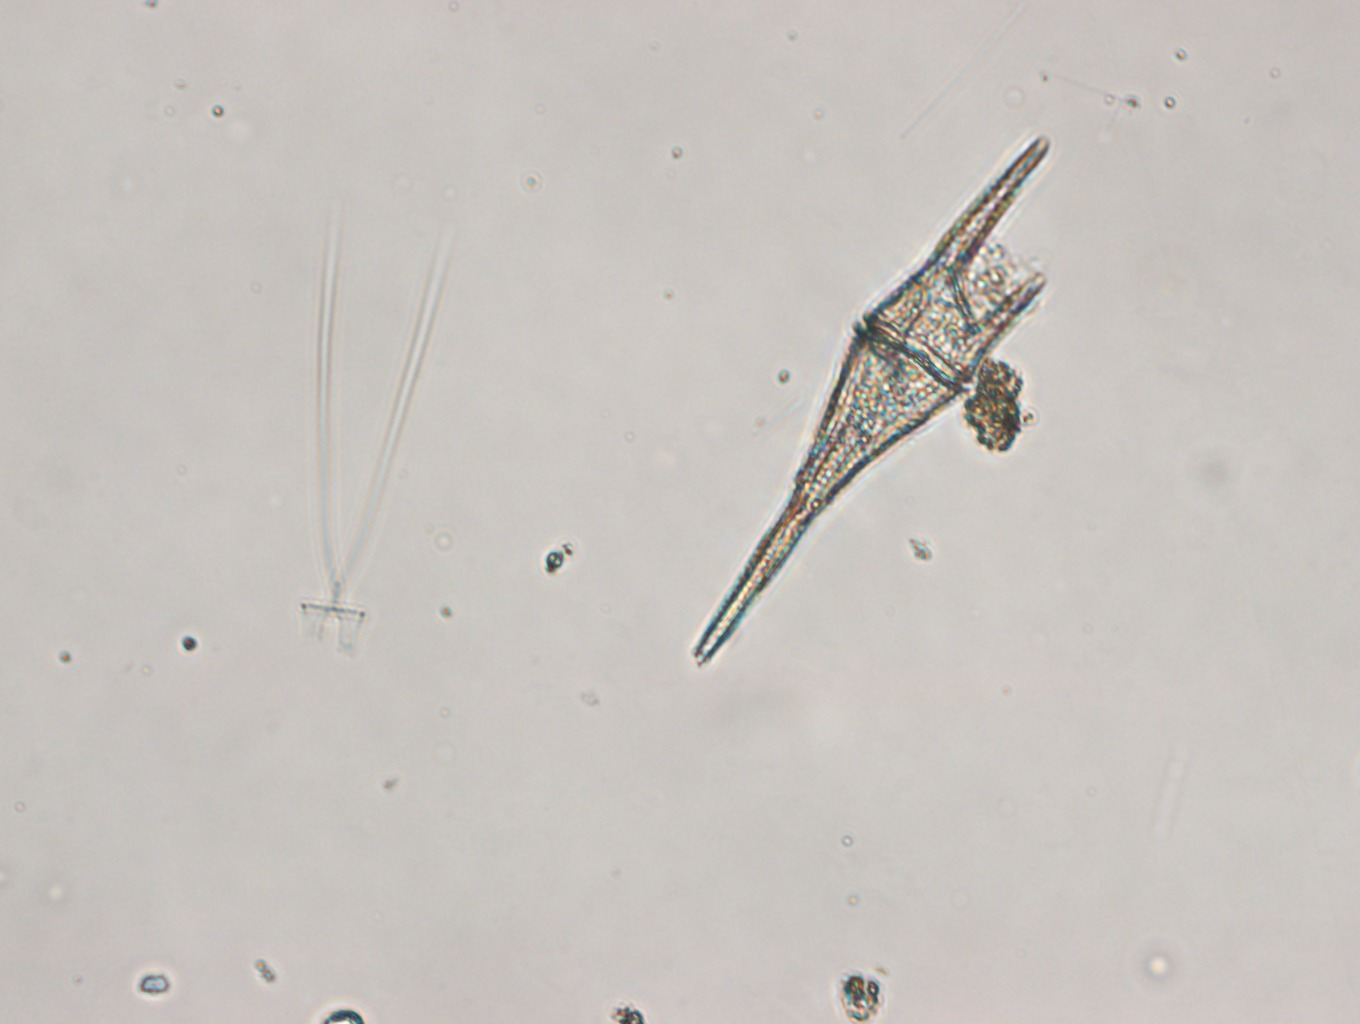ceratium furca: (691, 123, 1057, 669)
chaetoceros: (300, 211, 450, 660)
